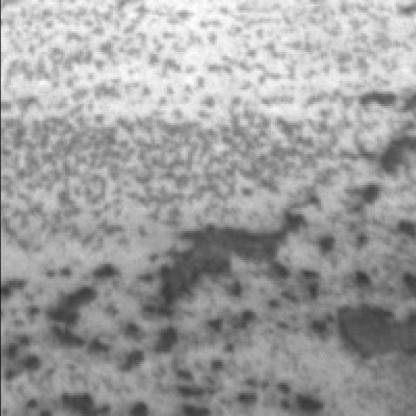patches: (152, 204, 295, 302), (335, 293, 412, 356)
pitted_surface: (0, 0, 376, 222), (0, 216, 333, 414)
